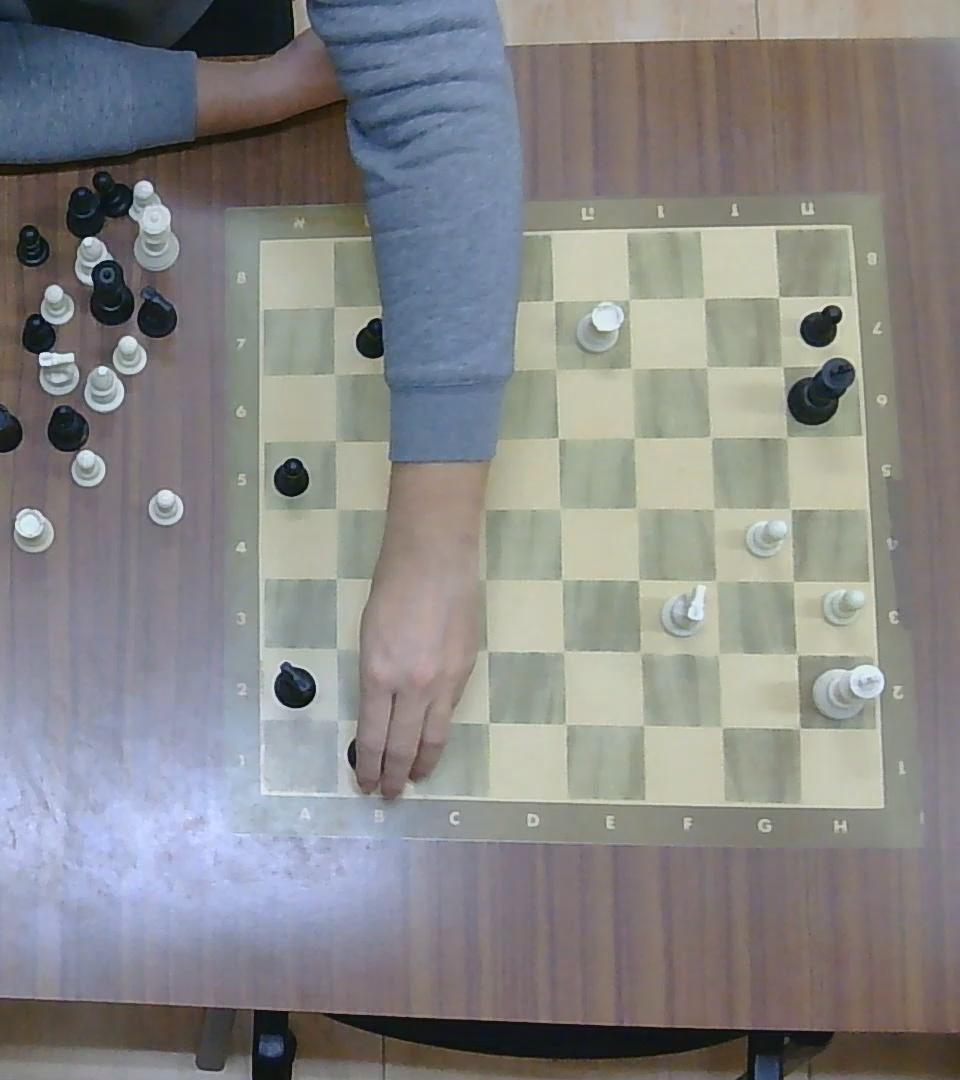xcorner: (703, 708, 737, 742), (781, 710, 815, 744), (702, 636, 734, 669), (626, 707, 658, 740), (780, 636, 812, 669), (548, 705, 579, 739), (624, 634, 655, 668), (776, 564, 808, 596), (390, 424, 422, 456), (466, 286, 496, 320), (699, 564, 730, 596), (548, 635, 578, 667), (622, 562, 652, 594), (397, 705, 429, 735), (698, 492, 728, 523), (621, 492, 651, 523), (473, 706, 502, 738), (472, 634, 501, 665), (547, 563, 576, 594), (322, 703, 351, 734), (470, 564, 500, 593), (615, 283, 644, 313), (616, 351, 645, 381), (321, 563, 350, 593), (776, 493, 806, 522), (394, 636, 423, 666), (395, 494, 424, 524), (544, 493, 573, 522), (619, 422, 648, 451), (470, 493, 499, 522), (692, 351, 721, 380), (543, 422, 572, 451), (767, 351, 796, 380), (322, 634, 350, 664), (539, 285, 567, 315), (399, 565, 427, 595), (691, 282, 719, 311), (473, 422, 501, 451), (697, 421, 725, 449), (542, 352, 570, 380), (772, 421, 800, 448), (322, 425, 348, 452), (323, 494, 349, 521), (321, 291, 347, 318), (473, 355, 498, 383), (322, 360, 348, 385), (766, 284, 792, 309), (394, 294, 420, 319), (396, 359, 420, 386)
